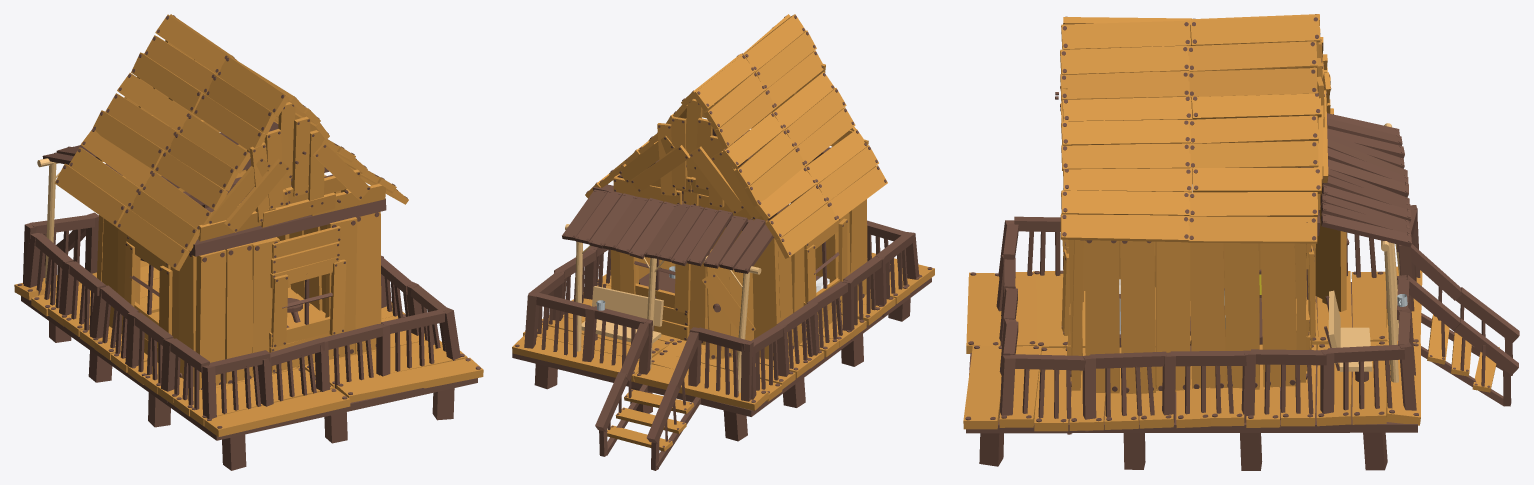
3 renders of one model, left to right at view 1: azimuth 30°, elevation 25°; view 2: azimuth 150°, elevation 25°; view 3: azimuth 270°, elevation 25°, orthographic. The views are drawn at different scales.
Visible parts, largest first — view 1: group1961152899; view 2: group1961152899; view 3: group1961152899.
Part boxes in pixels (bbox=[...]): group1961152899: bbox=[14, 14, 483, 470]; group1961152899: bbox=[512, 14, 934, 470]; group1961152899: bbox=[963, 14, 1519, 470].
Bounding box in the file's own units: 2 × 2.39 × 3.14.
1 material, 1 textured.
